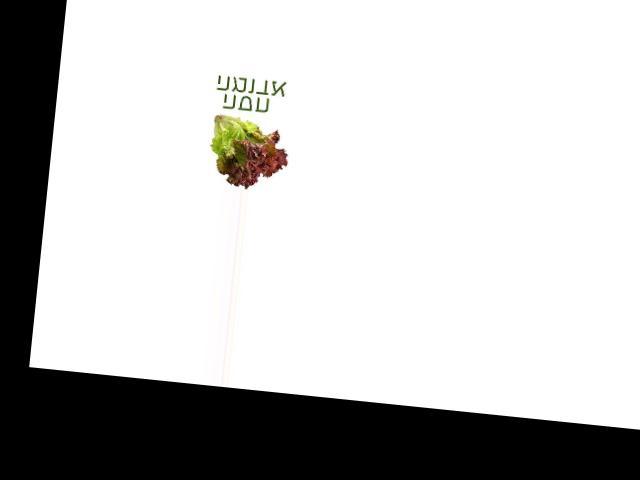lettuce: (198, 110, 293, 193)
